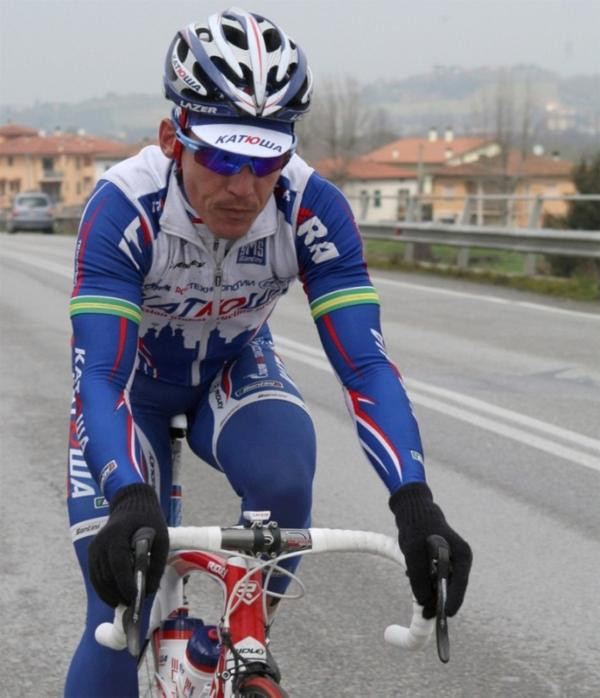person: (63, 9, 477, 698)
